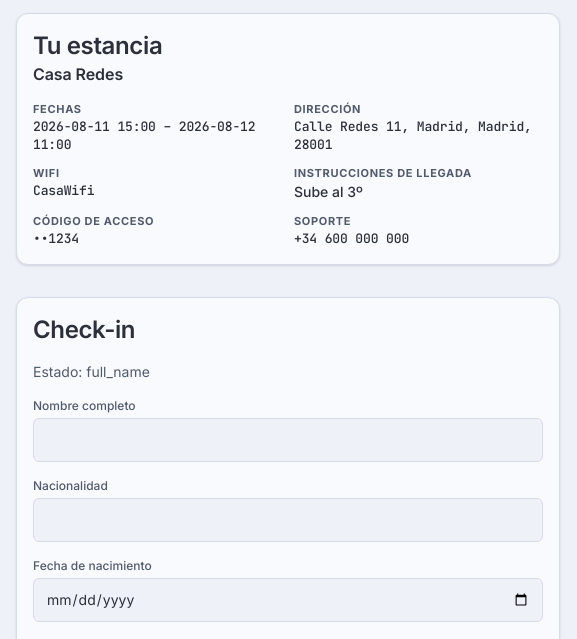
Test: render security regression (R1.3, R2.2, task 3.4) › does not echo the document number after a successful check-in
The image size is (577, 639).
expect the heading "Casa Redes" is shown: met, box x1=33 y1=64 x2=123 y2=84
Type "Ana" into the field labelled "Nombre completo".
click(288, 440); type("Ana")  # box x1=33 y1=418 x2=543 y2=462
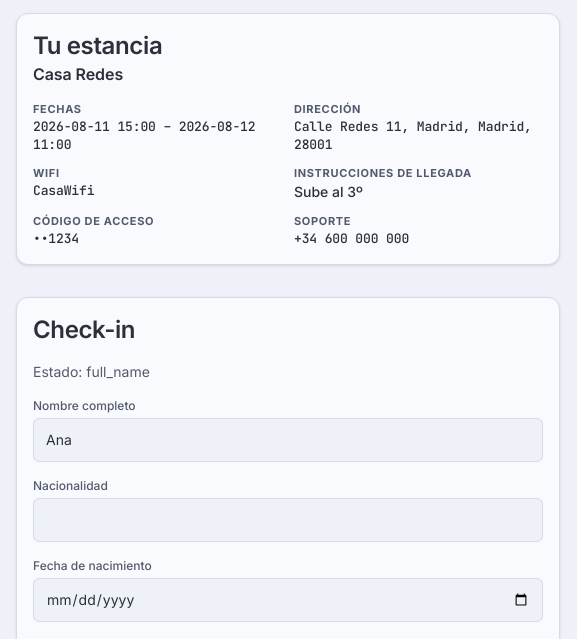
Type "ES" into the field labelled "Nacionalidad".
click(288, 520); type("ES")  # box x1=33 y1=498 x2=543 y2=542
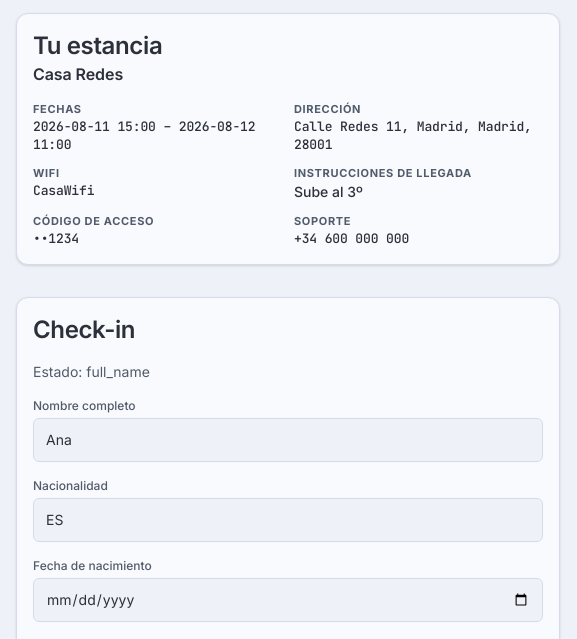
Type "1990-01-01" into the date field labelled "Fecha de nacimiento".
click(288, 600); type("1990-01-01")  # box x1=33 y1=578 x2=543 y2=622
(page scrolled)
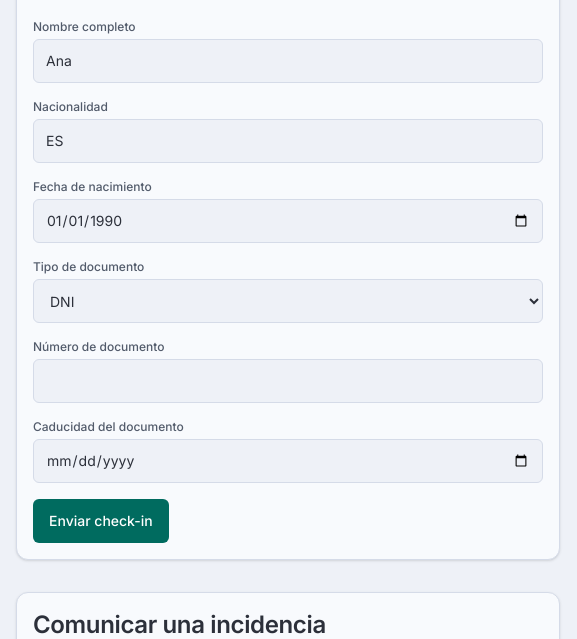
Type "ZZ-SECRET-999" into the field labelled "Número de documento".
click(288, 381); type("ZZ-SECRET-999")  # box x1=33 y1=359 x2=543 y2=403
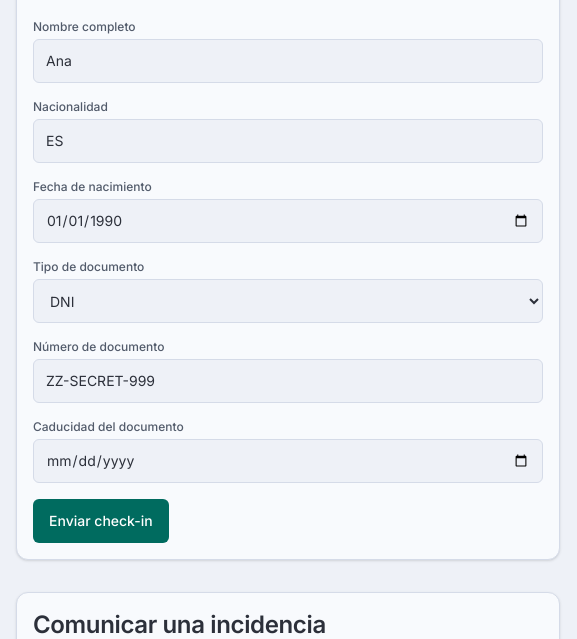
Type "2030-01-01" into the date field labelled "Caducidad del documento".
click(288, 461); type("2030-01-01")  # box x1=33 y1=439 x2=543 y2=483
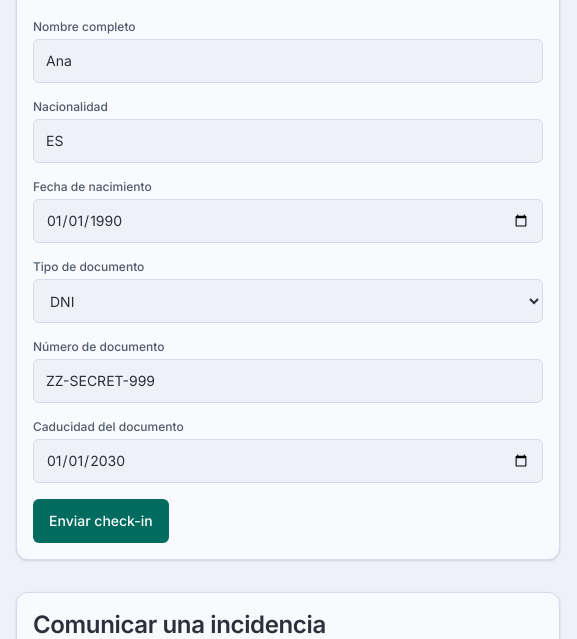
Click the button "Enviar check-in".
click(101, 521)  # box x1=33 y1=499 x2=169 y2=543
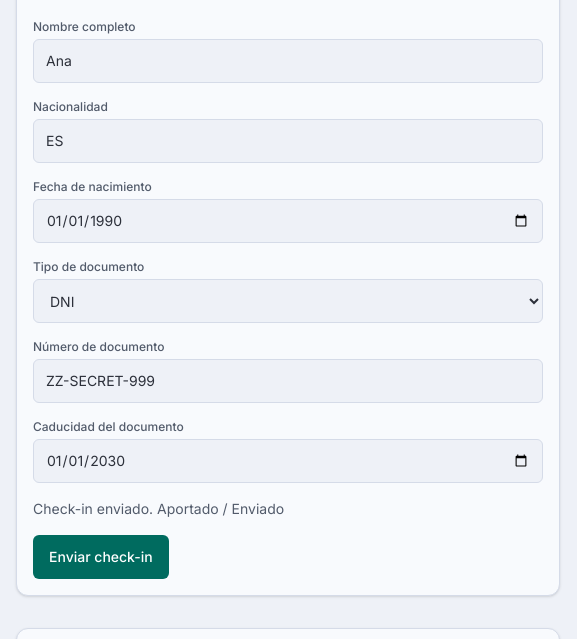
expect the text "Check-in enviado" does not show "ZZ-SECRET-999": met
expect the text "Check-in enviado. Aportado / Enviado" is shown: met, box x1=33 y1=500 x2=284 y2=517
